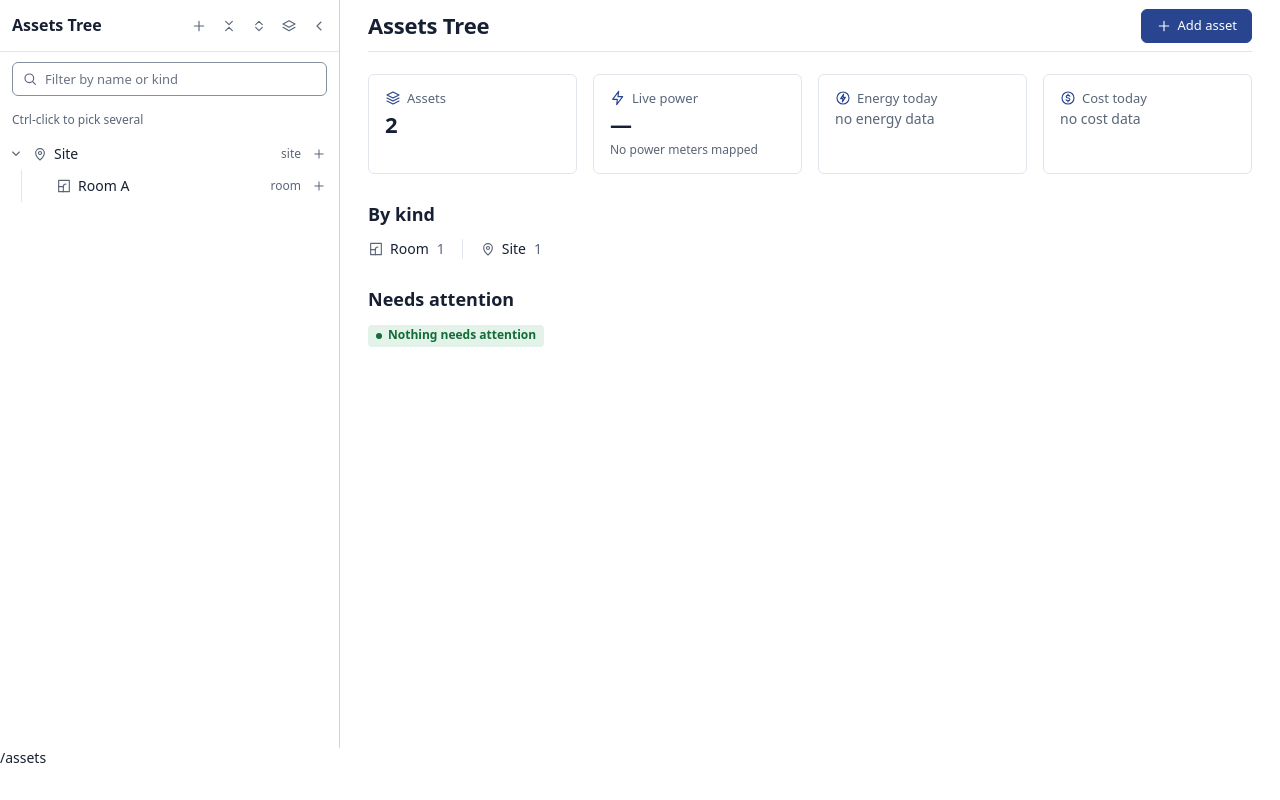
Scenario: AssetsPage › dialogs and the + on each branch › Cancel closes the dialog without a request
The width and height of the screenshot is (1280, 800).
Click the button named "Add child of Room A" at coordinates (319, 186), box [307, 174, 331, 198]
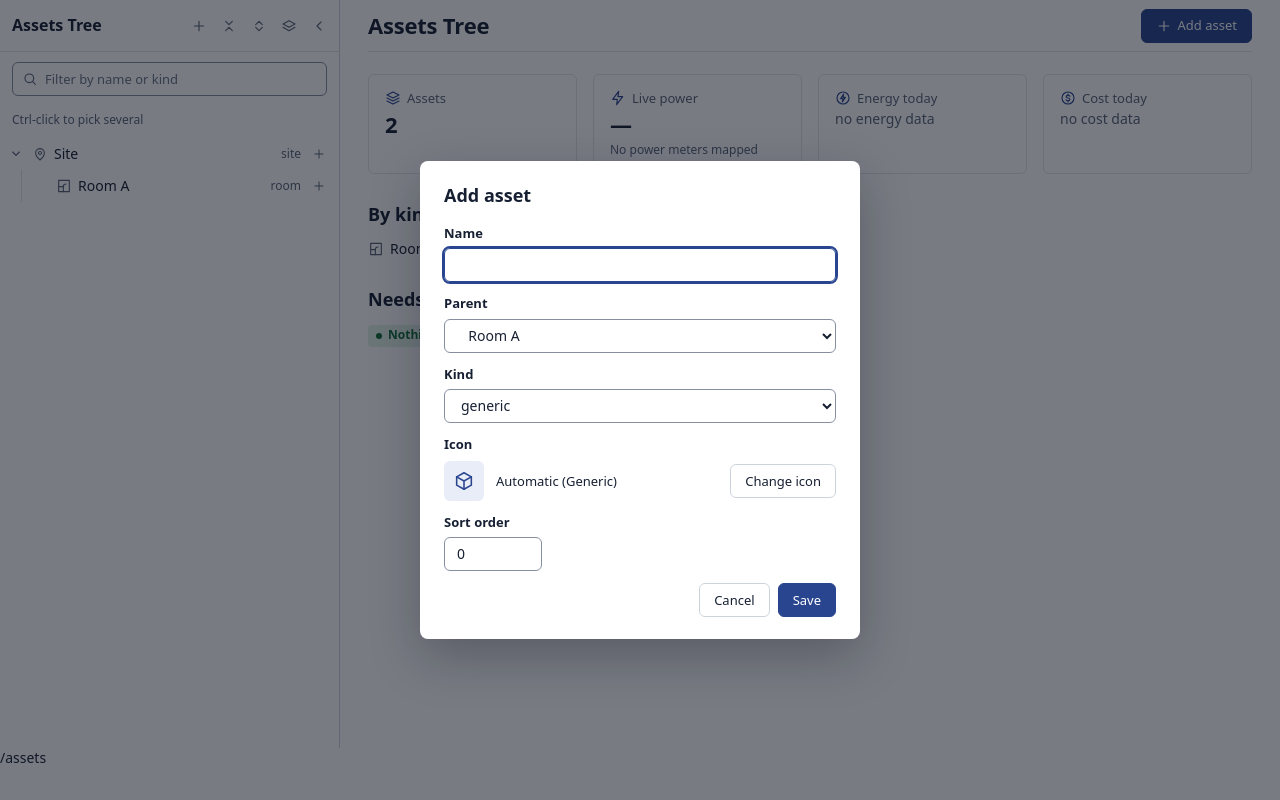
Result: the dialog "Add asset" is shown at [420, 161, 860, 639]
Click the button "Cancel" at coordinates (734, 600), box [699, 583, 770, 617]
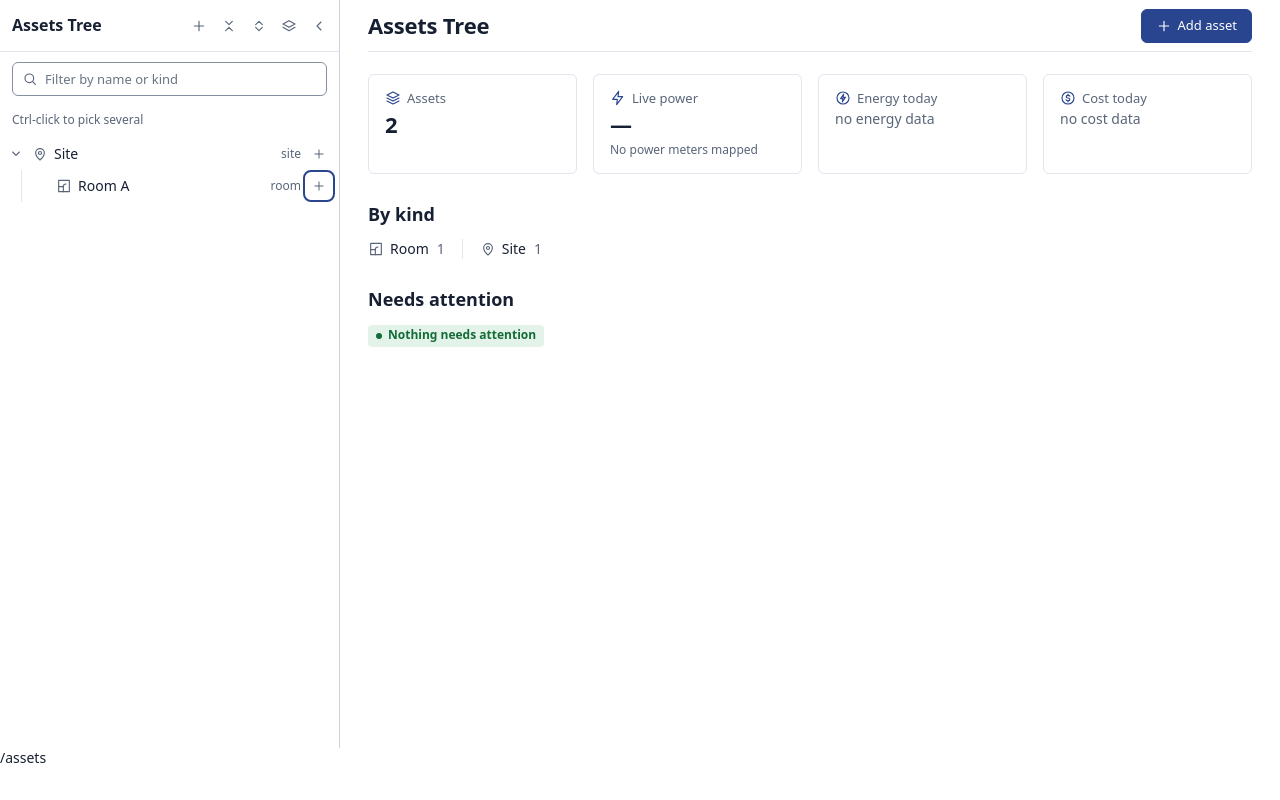
Result: the dialog is gone
